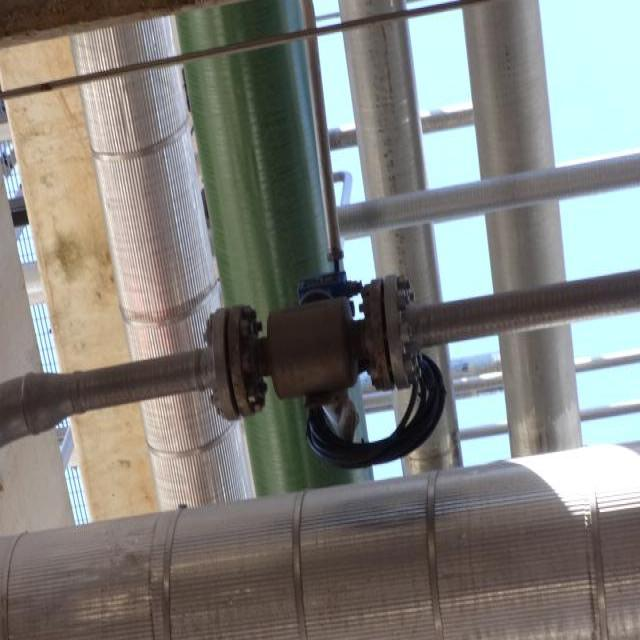gas: (0, 442, 640, 640), (0, 272, 640, 447), (175, 0, 373, 490), (338, 3, 464, 476), (460, 1, 581, 456), (343, 152, 640, 238)
